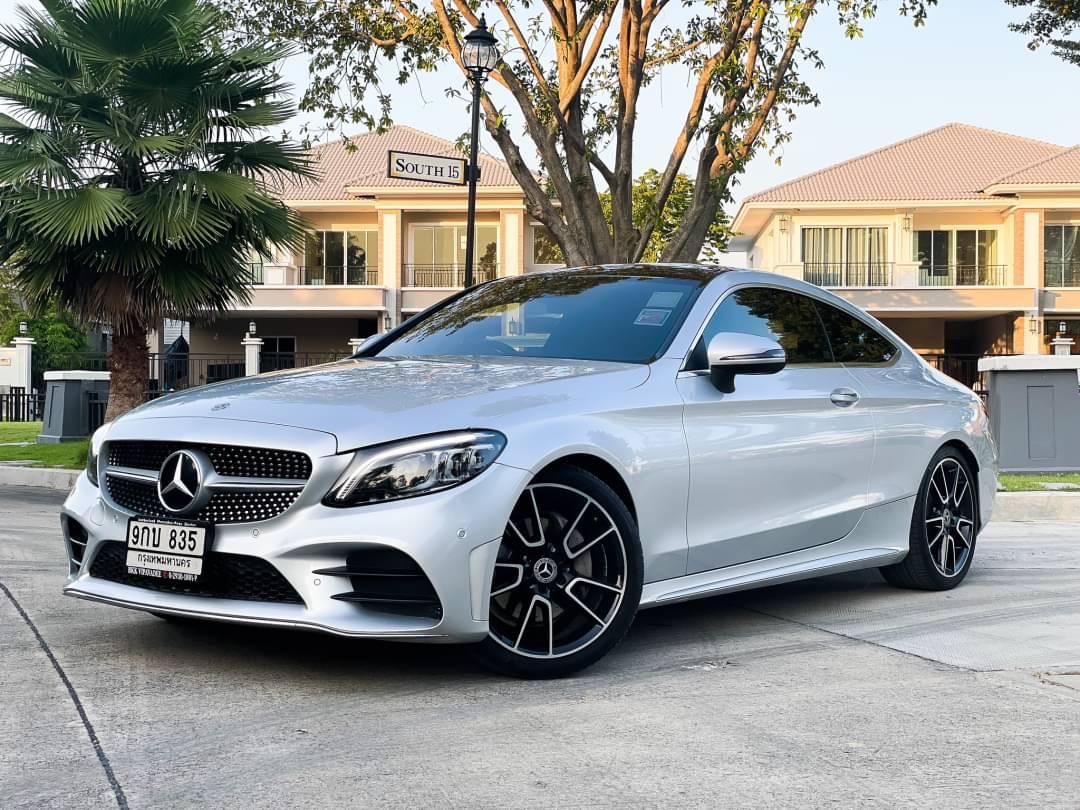license-plate: (124, 512, 216, 591)
